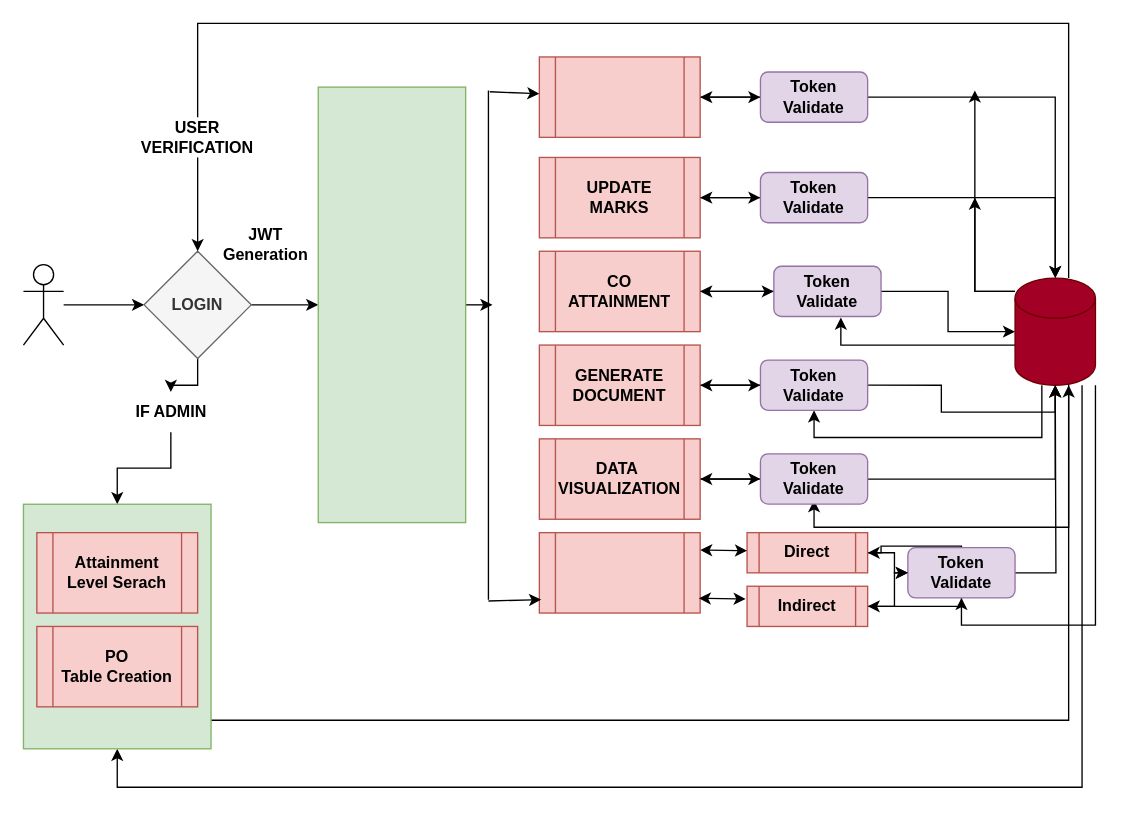
Some shapes in this 1130 by 821 pixel diagram are drawn without their labels. Here are the shapes that lost their labels. From the top down, the centre of each, then its label:
At [619,96]: "QUESTION PAPER TEMPLATE".
At [43,304]: "Actor".
At [391,304]: "FACULTY CO PO DASHBOARD".
At [1054,331]: "DB".
At [619,572]: "SURVEY".
